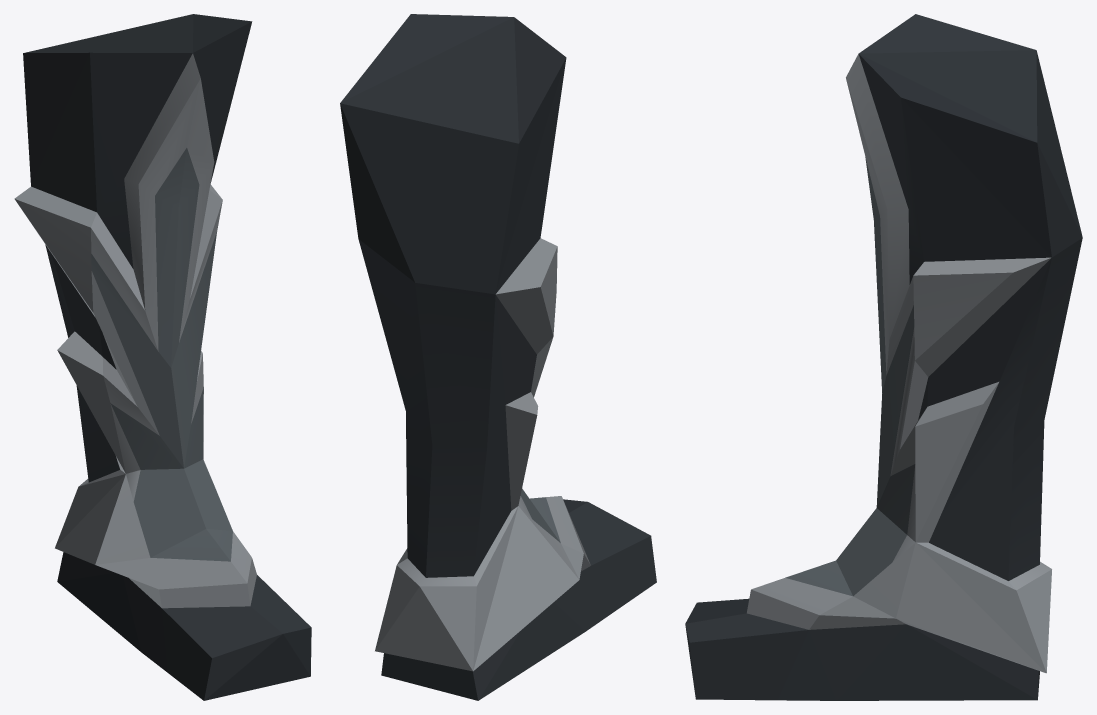
The model's file is Chr_LegRight_Female_12_Static.fbx.
3 views of the same model, side by side, from view 1: azimuth 30°, elevation 25°; view 2: azimuth 150°, elevation 25°; view 3: azimuth 270°, elevation 25° (orthographic). The views are drawn at different scales.
Parts seen in each view (by area): view 1: Chr_LegRight_Female_12_Static; view 2: Chr_LegRight_Female_12_Static; view 3: Chr_LegRight_Female_12_Static.
Boxes of the visible parts, <box> form: Chr_LegRight_Female_12_Static: <box>14,14,311,700</box>; Chr_LegRight_Female_12_Static: <box>340,14,656,700</box>; Chr_LegRight_Female_12_Static: <box>685,14,1082,700</box>.
Bounding box in the file's own units: 0.1355 × 0.4043 × 0.2336.
